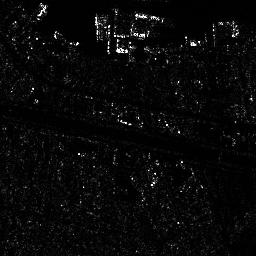ship: (132, 9, 166, 23)
